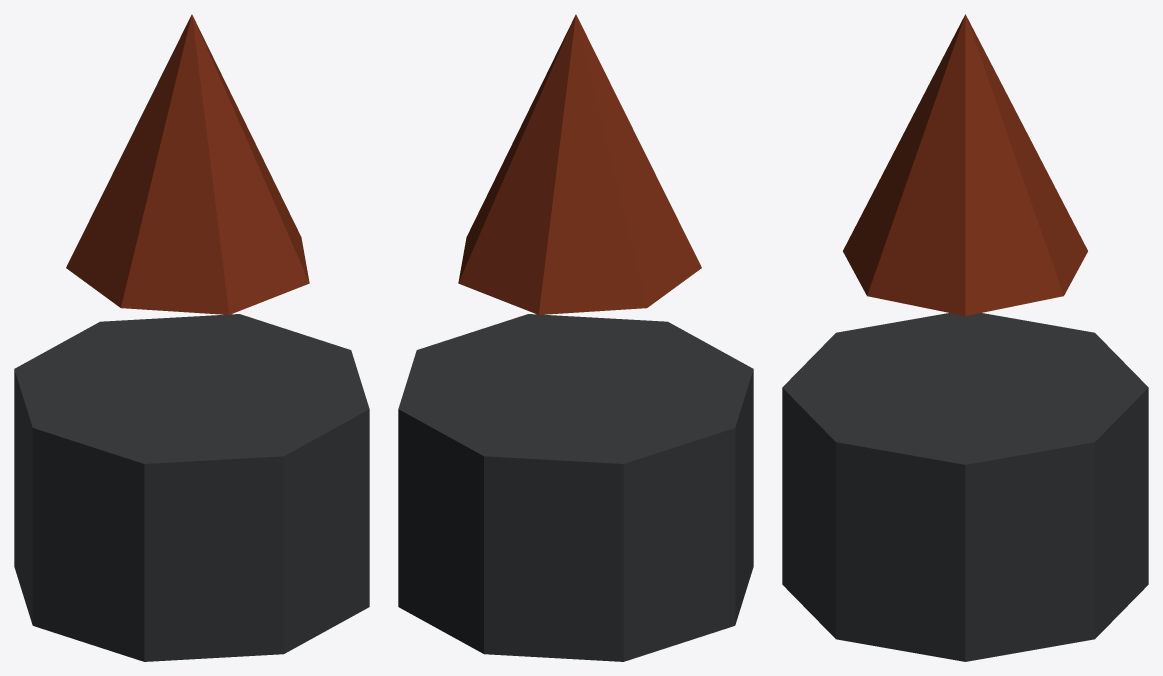
Rendered from brazier.obj.
3 views of the same model, side by side, from view 1: azimuth 30°, elevation 25°; view 2: azimuth 150°, elevation 25°; view 3: azimuth 270°, elevation 25° (orthographic).
Parts seen in each view (by area): view 1: brazier_0, brazier_1; view 2: brazier_0, brazier_1; view 3: brazier_0, brazier_1.
Boxes of the visible parts, bbox=[...] form: brazier_0: bbox=[14, 314, 369, 661]; brazier_1: bbox=[66, 14, 309, 314]; brazier_0: bbox=[398, 314, 753, 661]; brazier_1: bbox=[458, 14, 701, 314]; brazier_0: bbox=[782, 313, 1148, 661]; brazier_1: bbox=[843, 14, 1087, 315].
Bounding box in the file's own units: 0.64 × 1.1 × 0.64.
